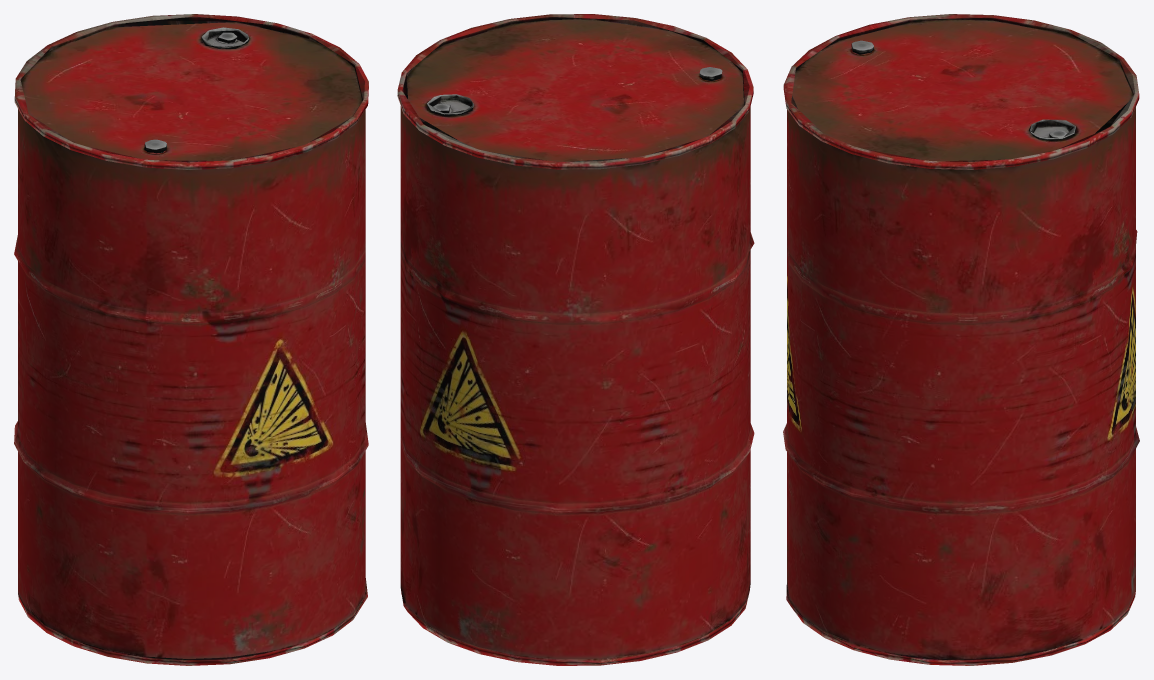
Rendered from Barrel_01.glb.
3 renders of one model, left to right at view 1: azimuth 30°, elevation 25°; view 2: azimuth 150°, elevation 25°; view 3: azimuth 270°, elevation 25°, orthographic.
Parts seen in each view (by area): view 1: Barrel_01; view 2: Barrel_01; view 3: Barrel_01.
Boxes of the visible parts, <box> form: Barrel_01: <box>14,14,368,665</box>; Barrel_01: <box>397,14,754,665</box>; Barrel_01: <box>783,14,1139,665</box>.
Size of the model in its own units: 0.5615 by 0.8789 by 0.5628.
Materials: 1 (1 with a texture image).
